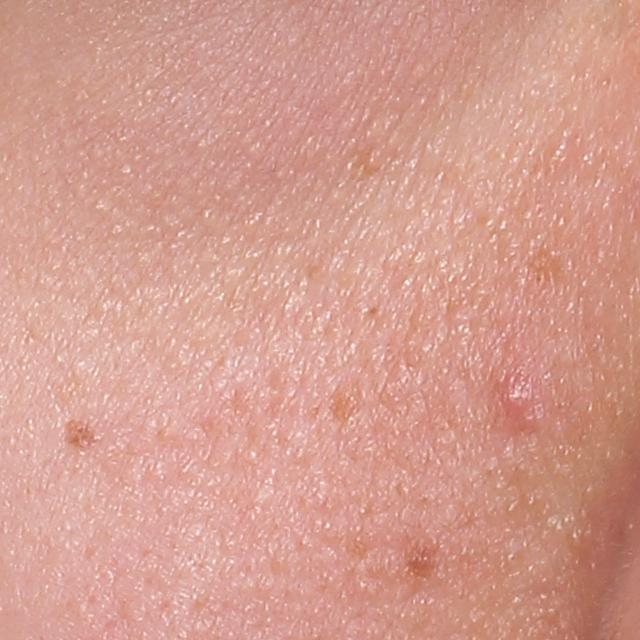melasma: (519, 240, 575, 294), (398, 530, 446, 583), (327, 371, 361, 424), (59, 417, 100, 453)
papule: (493, 371, 547, 428)
